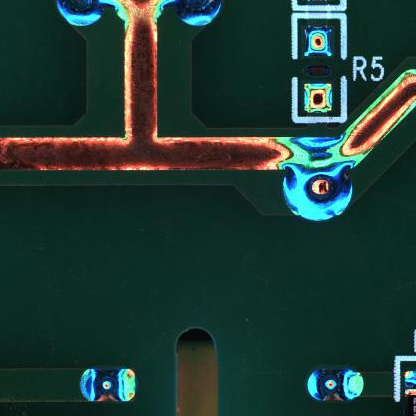spot: (283, 163, 355, 223), (80, 367, 139, 403), (307, 368, 363, 403)
